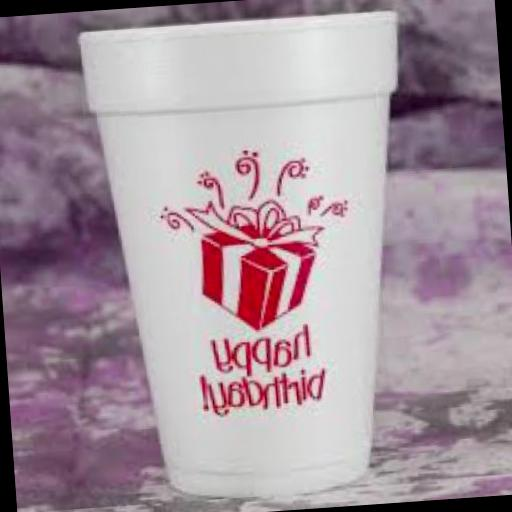paper: (80, 6, 432, 504)
